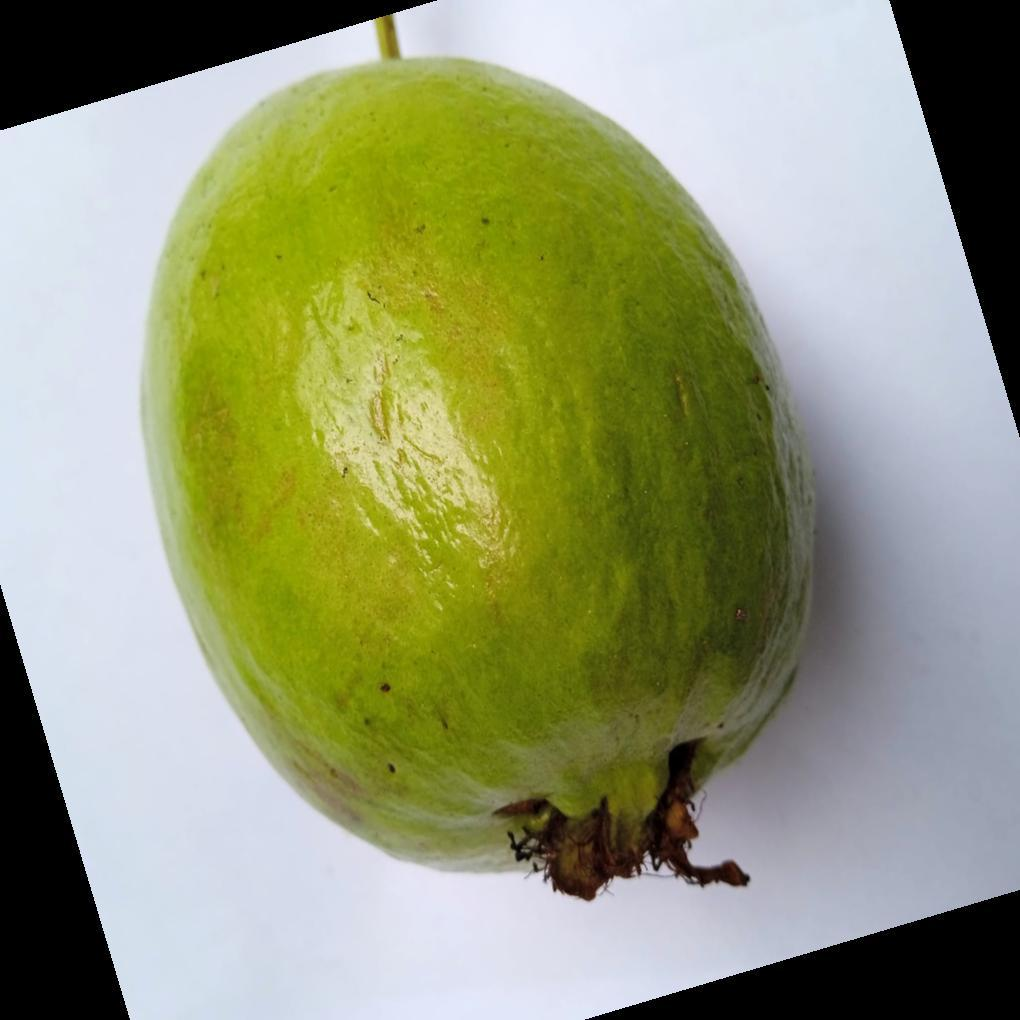FreshGuava: (135, 57, 820, 904)
